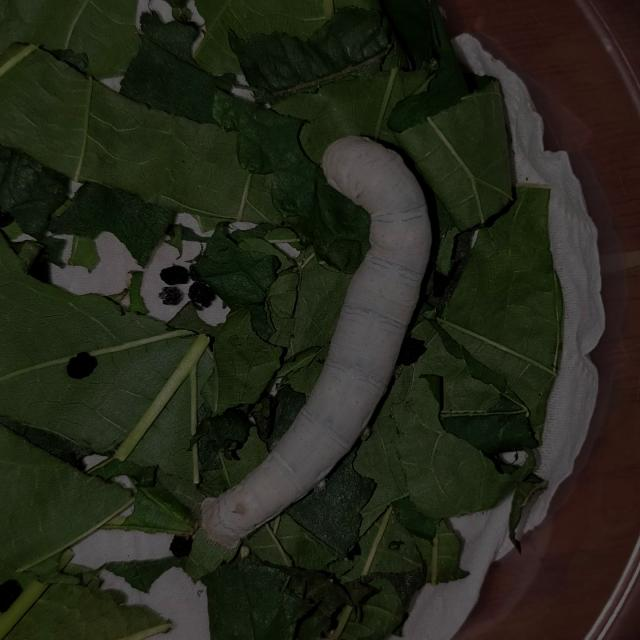Healthy: (169, 82, 470, 569)
